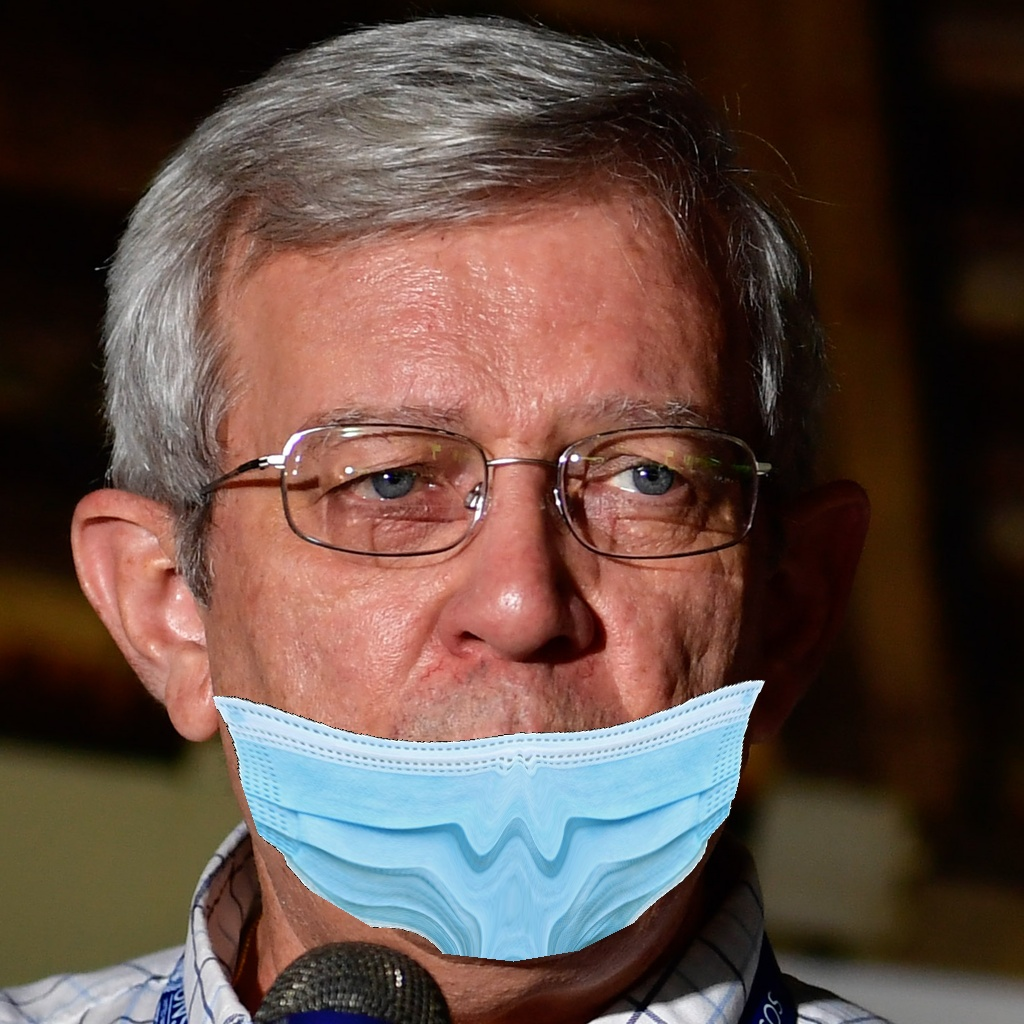mascarilla_mal_puesta: (199, 328, 739, 995)
